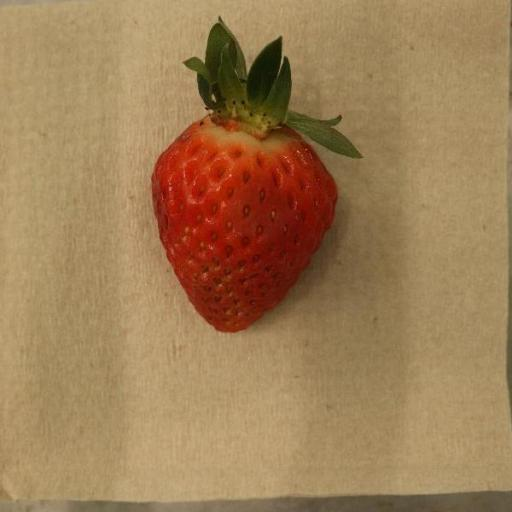Strawberry: (152, 18, 363, 334)
